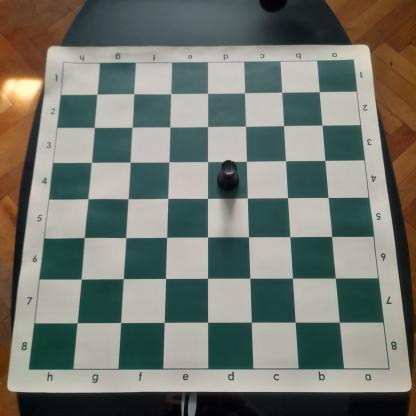black-rook: (214, 158, 243, 192)
